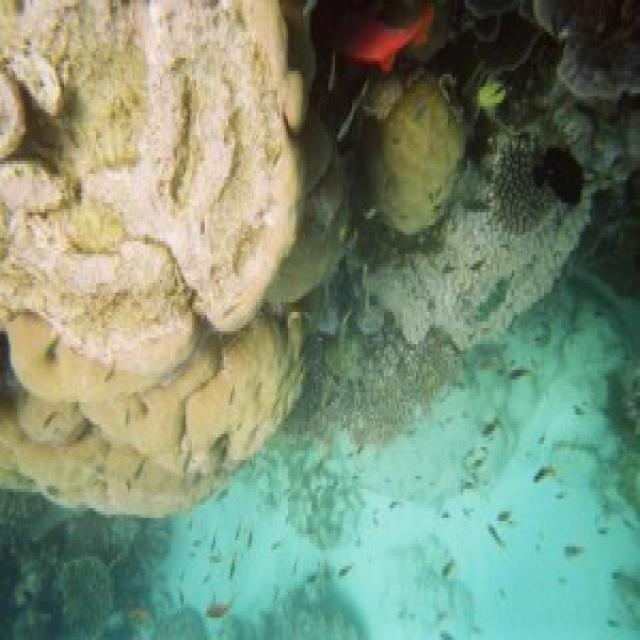Bleached: (3, 1, 290, 513), (389, 218, 581, 351)
Healthy: (464, 1, 541, 138), (585, 195, 640, 295), (499, 143, 554, 227), (70, 569, 110, 633)
